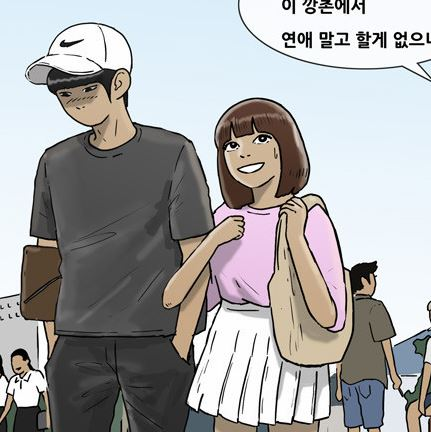hat: (23, 21, 138, 82)
